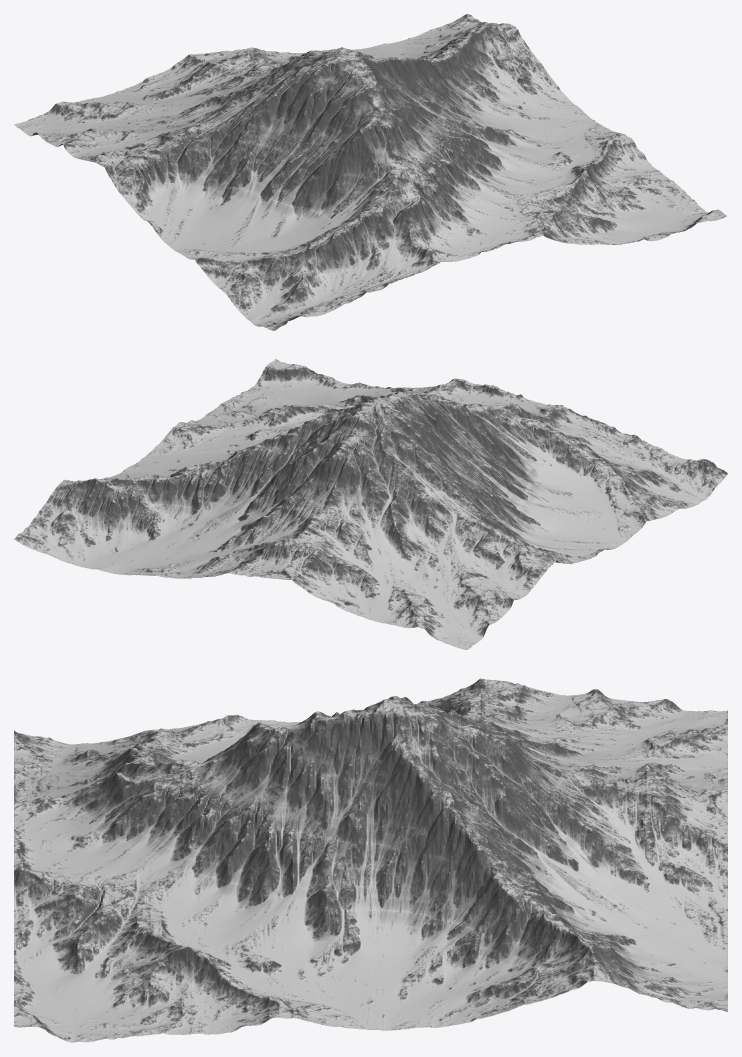
File: snowy_mountain.glb
3 renders of one model, top to bottom at view 1: azimuth 30°, elevation 25°; view 2: azimuth 150°, elevation 25°; view 3: azimuth 270°, elevation 25°, orthographic. The views are drawn at different scales.
Visible parts, largest first — view 1: Object_5, Object_3, Object_6, Object_2, Object_4, Object_7, Object_9, Object_8; view 2: Object_8, Object_7, Object_9, Object_4, Object_2, Object_6, Object_3, Object_5; view 3: Object_6, Object_7, Object_2, Object_3, Object_5, Object_4, Object_8, Object_9.
Boxes of the visible parts, x1,y1,x2,y2 form: Object_5: (149,67,699,326); Object_3: (177,107,662,278); Object_6: (115,47,600,223); Object_2: (14,14,629,251); Object_4: (209,167,726,330); Object_7: (82,50,568,186); Object_9: (18,15,501,143); Object_8: (50,23,534,159); Object_8: (50,474,534,616); Object_7: (88,428,565,585); Object_9: (20,496,501,647); Object_4: (211,359,727,517); Object_2: (14,392,628,649); Object_6: (117,396,599,564); Object_3: (178,393,661,538); Object_5: (149,375,712,553); Object_6: (360,694,450,1030); Object_7: (449,678,541,1025); Object_2: (281,709,727,1028); Object_3: (192,714,282,1034); Object_5: (51,709,361,1040); Object_4: (14,725,193,1042); Object_8: (540,689,630,1001); Object_9: (629,699,715,1010).
Bounding box in the file's own units: 1000 × 279 × 1000.
1 material, 1 textured.
